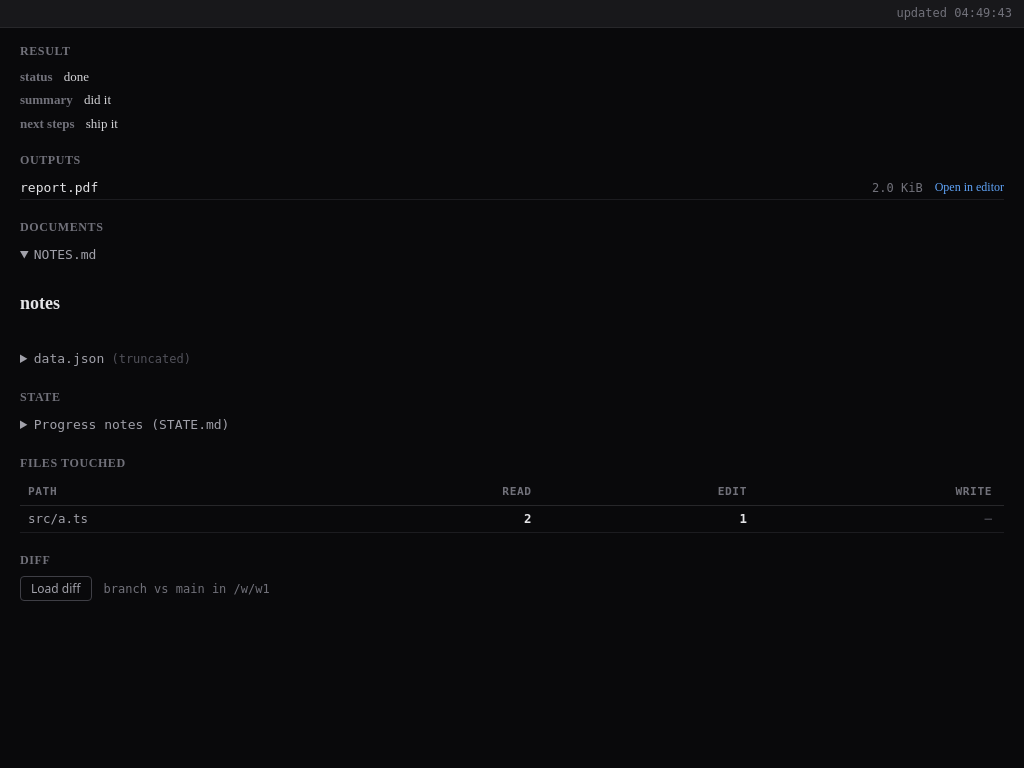
Scenario: ResultTab › "Load diff" fetches once and renders the note when the diff is empty
Expected: the heading "Diff" is shown, x1=20 y1=553 x2=50 y2=567
Click the button "Load diff" at (56, 589), box x1=20 y1=576 x2=92 y2=601
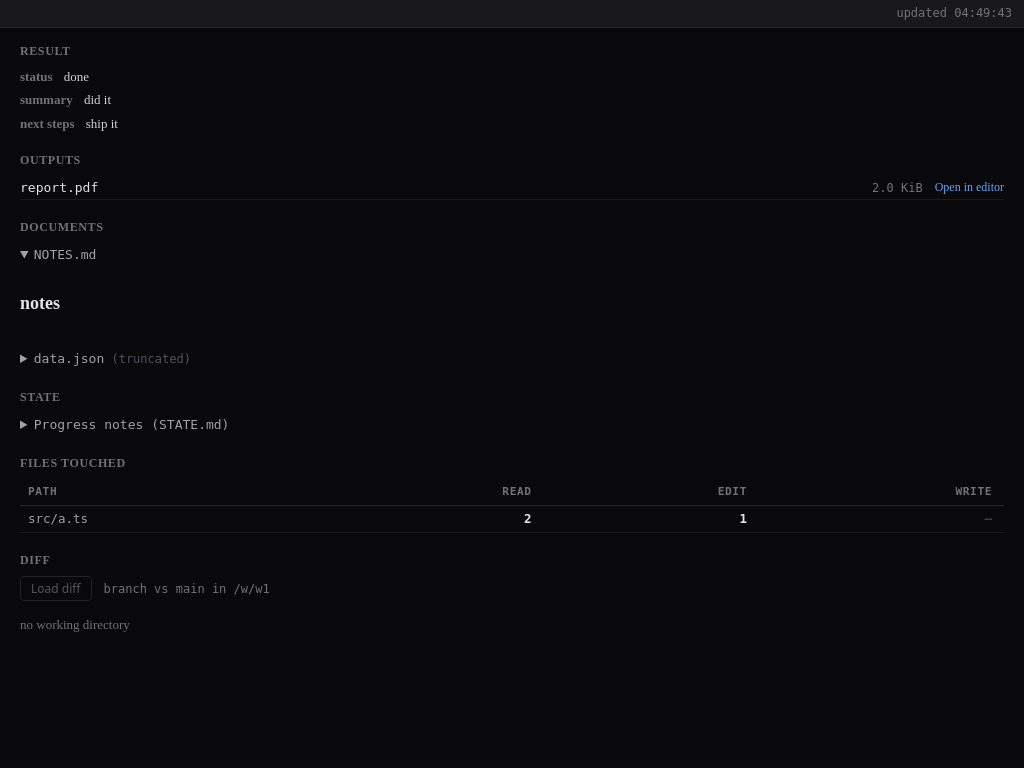
Now the text "no working directory" is shown, box x1=20 y1=617 x2=130 y2=632
